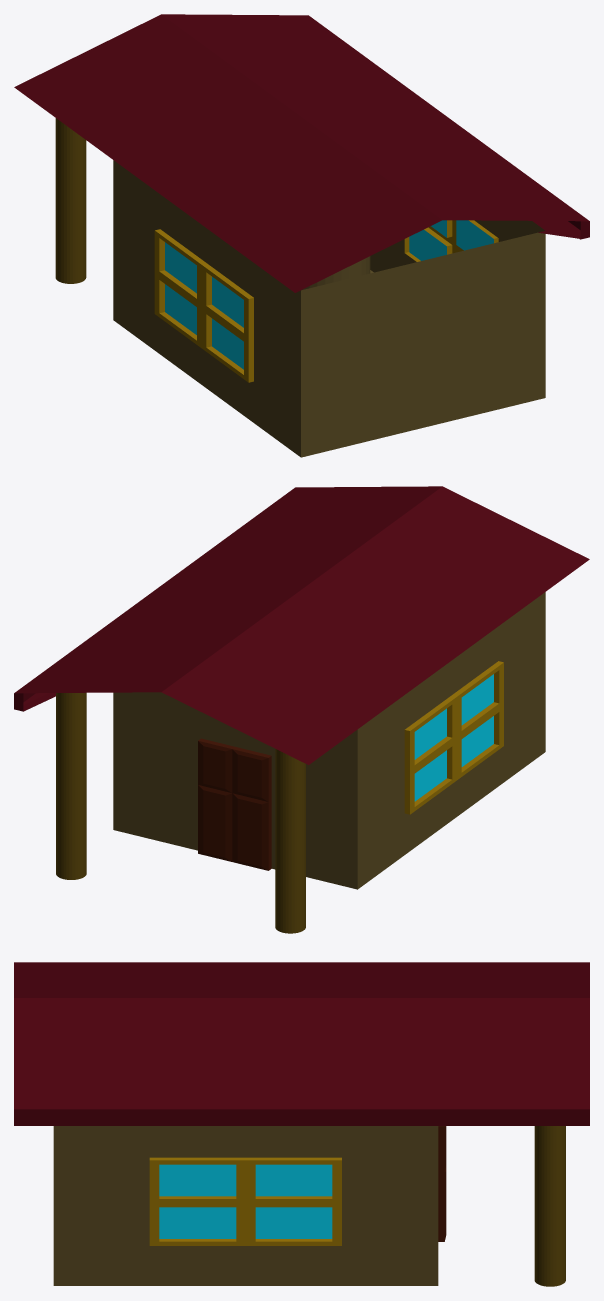
Rendered from Cabin.fbx.
The picture shows the model from 3 angles, top to bottom: view 1: azimuth 30°, elevation 25°; view 2: azimuth 150°, elevation 25°; view 3: azimuth 270°, elevation 25°; orthographic projection. The views are drawn at different scales.
Parts seen in each view (by area): view 1: Roof, Walls, Window Frames, Windows, Supports; view 2: Roof, Walls, Supports, Door, Window Frames, Windows; view 3: Roof, Walls, Windows, Window Frames, Supports, Door.
Boxes of the visible parts, <box> form: Roof: <box>14,14,589,292</box>; Walls: <box>113,160,545,457</box>; Window Frames: <box>154,220,498,382</box>; Windows: <box>165,220,493,369</box>; Supports: <box>55,118,86,283</box>; Roof: <box>14,486,589,764</box>; Walls: <box>113,592,545,889</box>; Supports: <box>56,692,305,933</box>; Door: <box>198,738,271,870</box>; Window Frames: <box>404,661,503,814</box>; Windows: <box>414,674,493,801</box>; Roof: <box>14,962,589,1125</box>; Walls: <box>53,1126,438,1285</box>; Windows: <box>159,1164,332,1238</box>; Window Frames: <box>149,1157,341,1245</box>; Supports: <box>534,1126,565,1286</box>; Door: <box>438,1126,446,1241</box>.
Bounding box in the file's own units: 810 × 583 × 1339.
